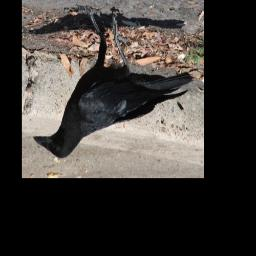Crow: (32, 7, 193, 161)
